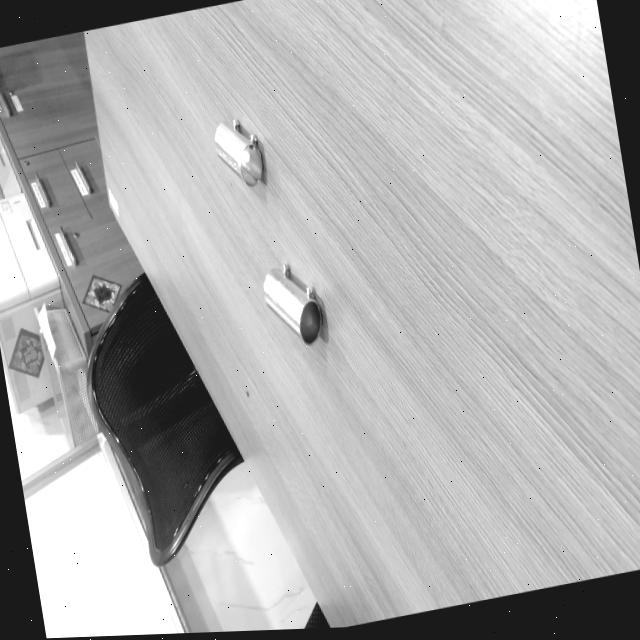Co_Lon: (251, 257, 340, 347)
Co_Nho: (203, 112, 279, 188)
